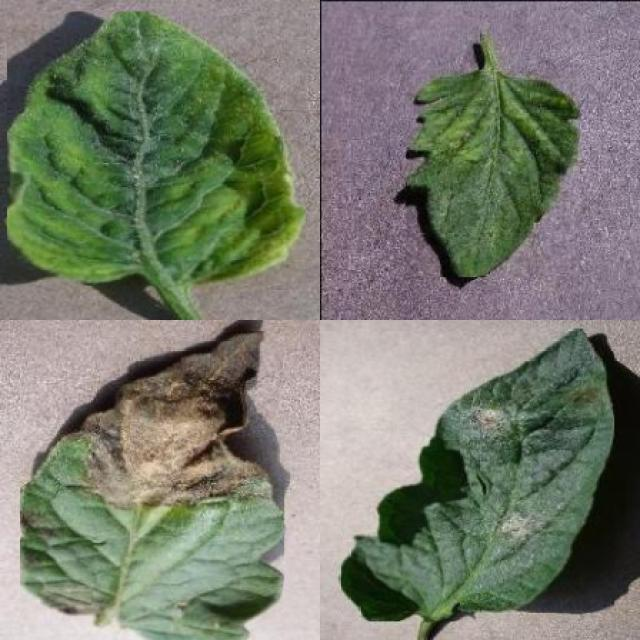Late Blight: (20, 330, 284, 640), (340, 328, 614, 622)
Mosaic Virus: (406, 70, 580, 277)
Yellow Leaf Curl Virus: (7, 11, 306, 286)
